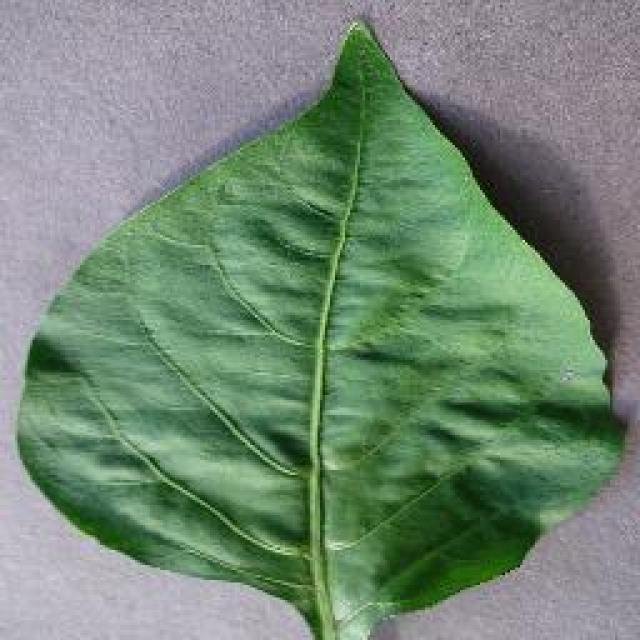Chilli_Healthy: (12, 15, 628, 637)
